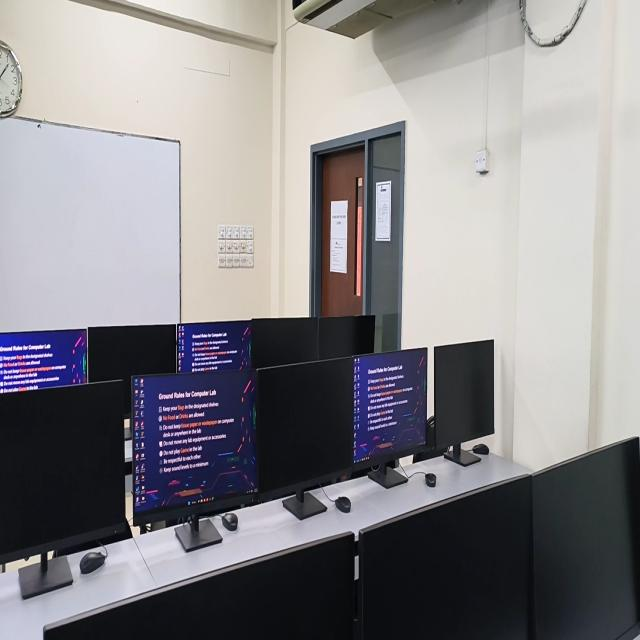Chair: (52, 520, 132, 558), (413, 416, 435, 462)
Monitor: (43, 532, 356, 639), (358, 476, 532, 639), (0, 381, 126, 599), (132, 370, 258, 551), (532, 439, 640, 639), (257, 359, 353, 519), (353, 348, 427, 488), (88, 324, 176, 416), (434, 340, 494, 466), (0, 329, 87, 393), (177, 321, 251, 372), (250, 315, 321, 368), (318, 316, 374, 359)
Mouse: (79, 550, 107, 574), (222, 513, 238, 531), (335, 497, 351, 513), (472, 443, 489, 455), (425, 473, 436, 487)
